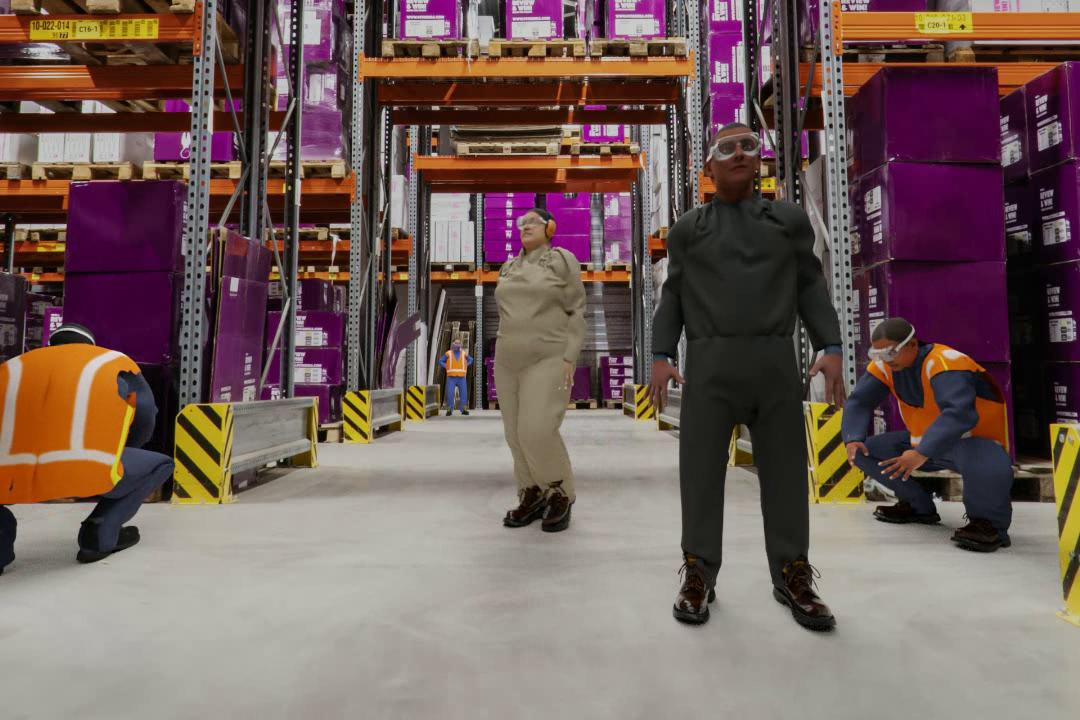Goggles: (704, 131, 764, 160), (866, 346, 914, 362), (516, 213, 548, 229)
Jacket: (10, 346, 124, 503), (875, 366, 997, 443), (447, 348, 467, 379)
Shoes: (756, 559, 847, 636), (660, 560, 725, 626), (66, 520, 147, 564), (868, 495, 945, 526), (948, 519, 1021, 551), (543, 486, 589, 534), (506, 484, 540, 536), (445, 407, 454, 418), (459, 406, 470, 415)
